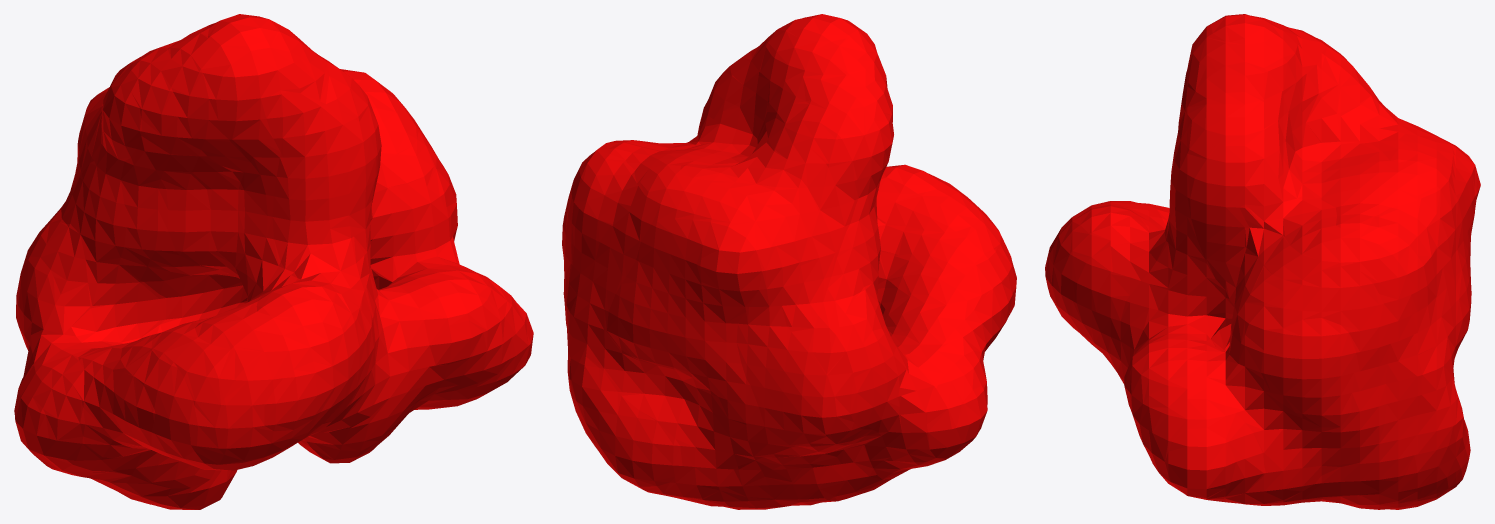
The model's file is yihI_coarse.dae.
The picture shows the model from 3 angles, left to right: view 1: azimuth 30°, elevation 25°; view 2: azimuth 150°, elevation 25°; view 3: azimuth 270°, elevation 25°; orthographic projection. The views are drawn at different scales.
Parts seen in each view (by area): view 1: yihI; view 2: yihI; view 3: yihI.
Part boxes in pixels (bbox=[...]): yihI: bbox=[14, 14, 533, 509]; yihI: bbox=[562, 14, 1016, 509]; yihI: bbox=[1045, 14, 1480, 509].
Size of the model in its own units: 47.77 by 49.24 by 41.92.
